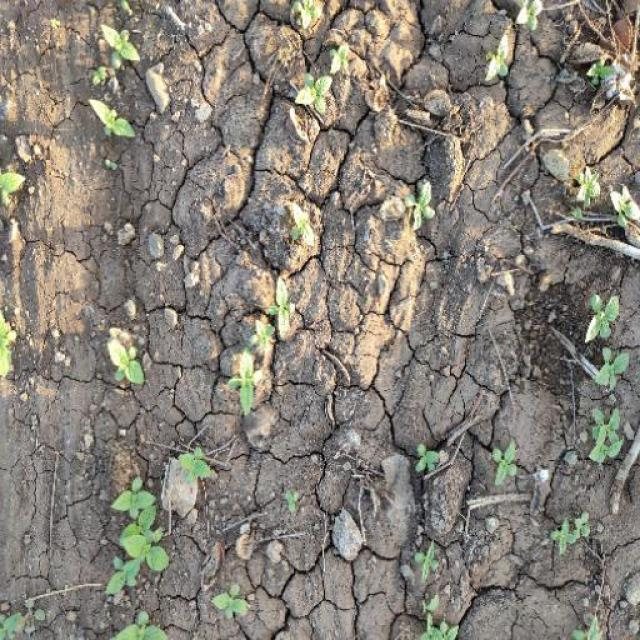crop: (218, 285, 302, 426), (576, 292, 632, 490), (96, 469, 170, 609), (82, 18, 144, 162), (285, 42, 363, 120), (97, 332, 155, 393), (401, 172, 439, 244), (400, 436, 450, 479), (410, 539, 444, 579)
